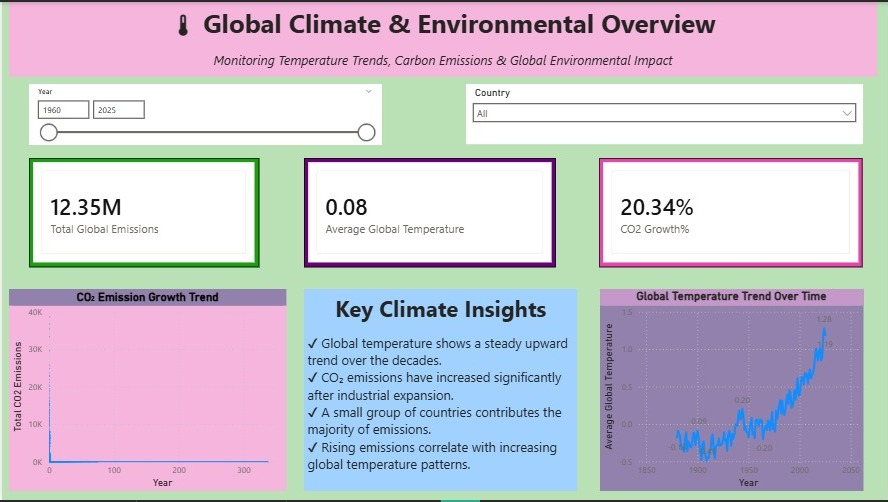

Layout of this report page (visuals, bound fields, positions):
{"tool":"powerbi","page":{"name":"Global Climate Overview","canvas":[1280,720],"ordinal":0},"visuals":[{"type":"cardVisual","fields":{"Data":["CountryTable.Total Emissions"]},"box":[38.6,225.1,332.6,157.9],"z":0},{"type":"cardVisual","fields":{"Data":["CountryTable.Average Global Temperature"]},"box":[436.6,225.5,364.3,157.6],"z":1000},{"type":"cardVisual","fields":{"Data":["CountryTable.CO2 Growth%"]},"box":[863.4,225.1,381.3,157.9],"z":2000},{"type":"lineChart","title":"Global Temperature Trend Over Time","fields":{"Y":["CountryTable.Average Global Temperature"],"Category":["global_temperature.Year"]},"box":[864,414.4,380.6,292.4],"z":3000},{"type":"clusteredBarChart","title":"CO₂ Emission Growth Trend","fields":{"Y":["CountNonNull(co2_emissions.Country)"],"Category":["co2_emissions.CO2 Emissions"]},"box":[10.3,414.4,401.1,292.4],"z":4000},{"type":"textbox","box":[10.1,0,1254.8,107.5],"z":5000},{"type":"slicer","fields":{"Values":["DateTable.Year"]},"box":[39,118.6,508.9,86.7],"z":6000},{"type":"slicer","fields":{"Values":["CountryTable.Country"]},"box":[670.8,118.6,574,86.7],"z":7000},{"type":"textbox","box":[436.4,414.4,395.3,292.4],"z":8000}]}

Visuals, with their boxes in screenshot pixels (x1, y1, x2, y2), scaled from the page's 1280x720 canvas onto the 888x502 screenshot:
cardVisual - CountryTable.Total Emissions: box=[27, 157, 258, 267]
cardVisual - CountryTable.Average Global Temperature: box=[303, 157, 556, 267]
cardVisual - CountryTable.CO2 Growth%: box=[599, 157, 864, 267]
"Global Temperature Trend Over Time" lineChart: box=[599, 289, 863, 493]
"CO₂ Emission Growth Trend" clusteredBarChart: box=[7, 289, 285, 493]
textbox: box=[7, 0, 878, 75]
slicer - DateTable.Year: box=[27, 83, 380, 143]
slicer - CountryTable.Country: box=[465, 83, 864, 143]
textbox: box=[303, 289, 577, 493]
